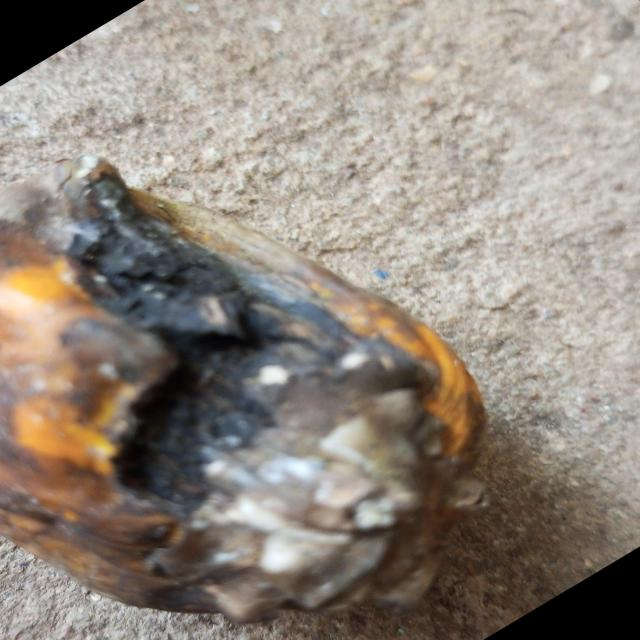damaged: (0, 158, 489, 630)
